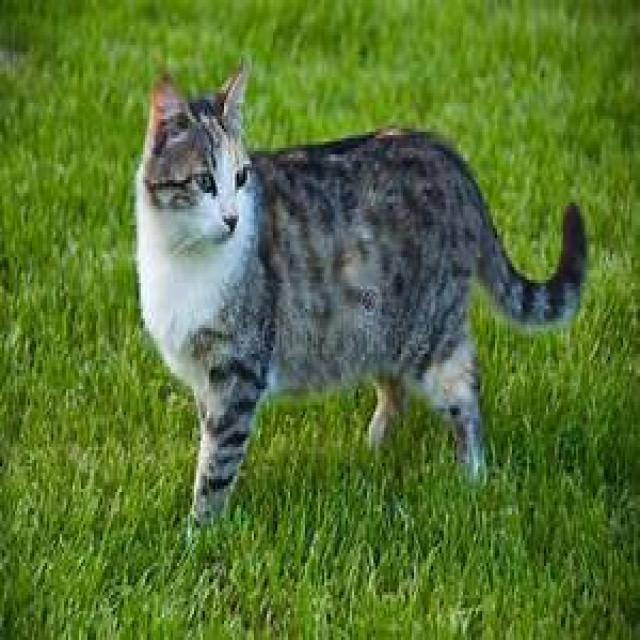animal: (132, 58, 587, 534)
